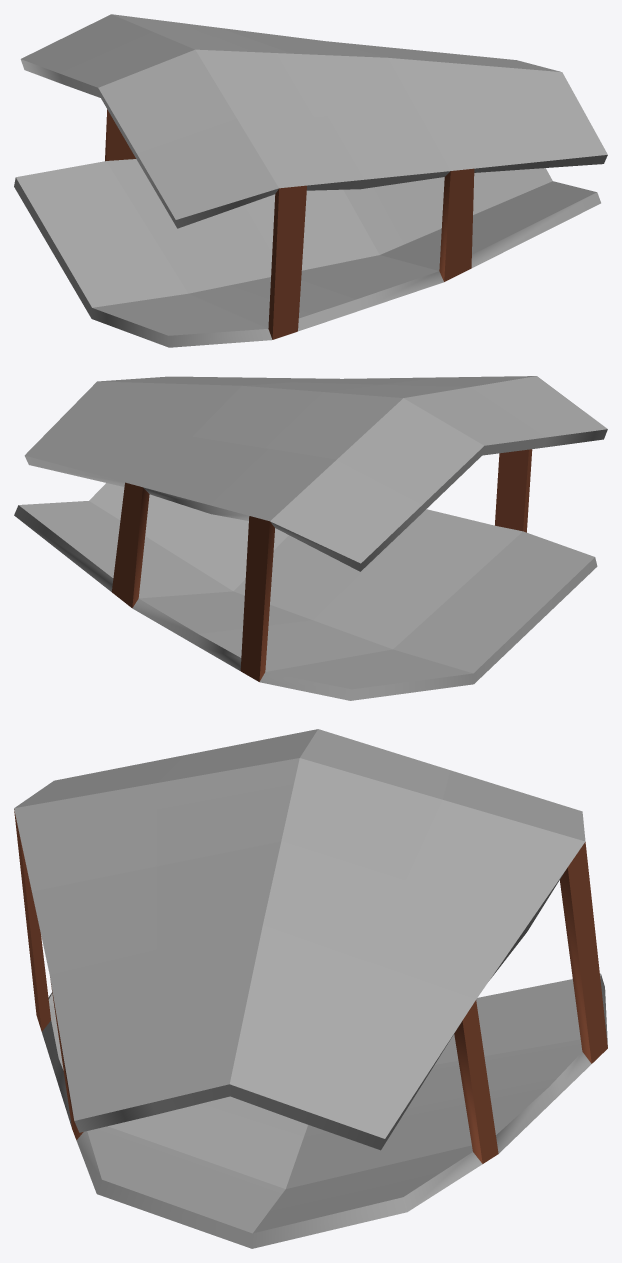
File: Armor_Full.fbx
3 views of the same model, one above another, from view 1: azimuth 30°, elevation 25°; view 2: azimuth 150°, elevation 25°; view 3: azimuth 270°, elevation 25° (orthographic). The views are drawn at different scales.
Visible parts, largest first — view 1: Cylinder.002; view 2: Cylinder.002; view 3: Cylinder.002.
Part boxes in pixels (x1=…): Cylinder.002: x1=14, y1=14, x2=607, y2=347; Cylinder.002: x1=14, y1=376, x2=607, y2=700; Cylinder.002: x1=14, y1=729, x2=607, y2=1248.
Bounding box in the file's own units: 61.46 × 32.69 × 51.82.
